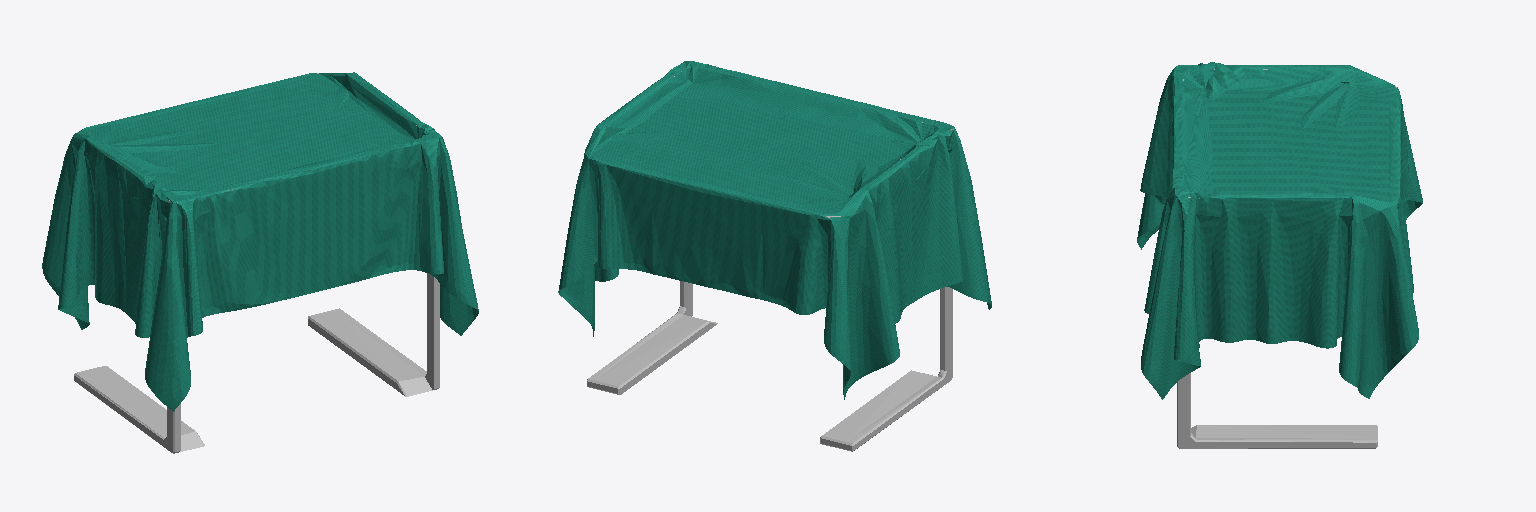
3 views of the same model, side by side, from view 1: azimuth 30°, elevation 25°; view 2: azimuth 150°, elevation 25°; view 3: azimuth 270°, elevation 25° (orthographic).
Parts seen in each view (by area): view 1: ToolsTable:ToolsTable; view 2: ToolsTable:ToolsTable; view 3: ToolsTable:ToolsTable.
Part boxes in pixels (x1,y1,x2,y2): ToolsTable:ToolsTable: (42,72,478,453); ToolsTable:ToolsTable: (558,61,991,451); ToolsTable:ToolsTable: (1137,62,1422,448).
Bounding box in the file's own units: 1.04 × 0.7737 × 0.7804.
1 materials, 1 textured.